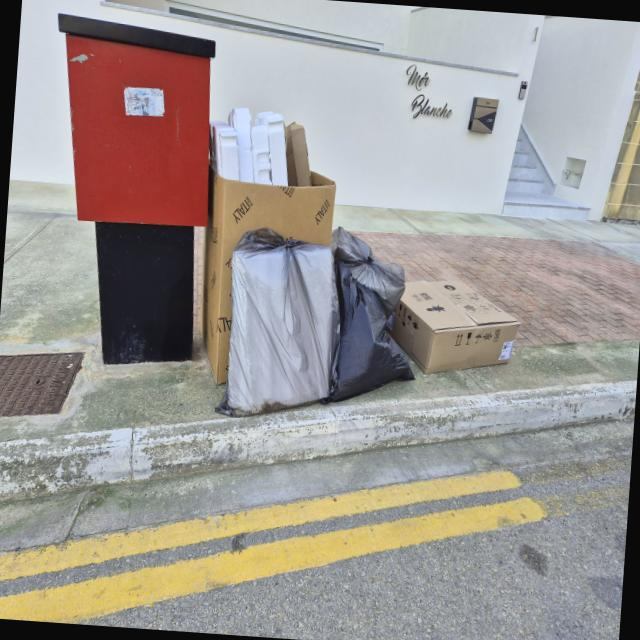black_bag: (220, 222, 355, 416), (322, 225, 424, 398)
other_waste: (198, 106, 338, 256), (389, 270, 517, 383)
